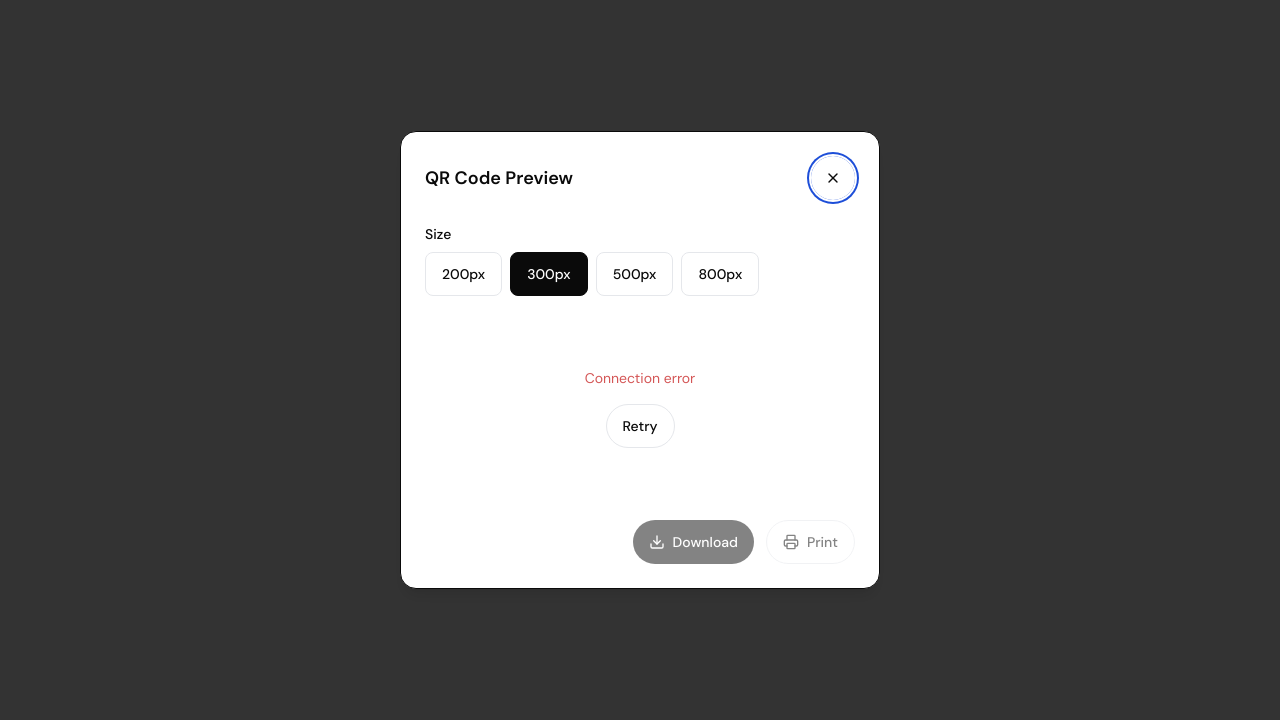
Scenario: Integration: Error recovery › simulate network failure, show error, retry, succeed on second attempt
Expected: the text "Connection error" is shown, [585,368,695,388]
# Click retry
Click the button "Retry".
click(640, 426)  # box [606,404,674,448]
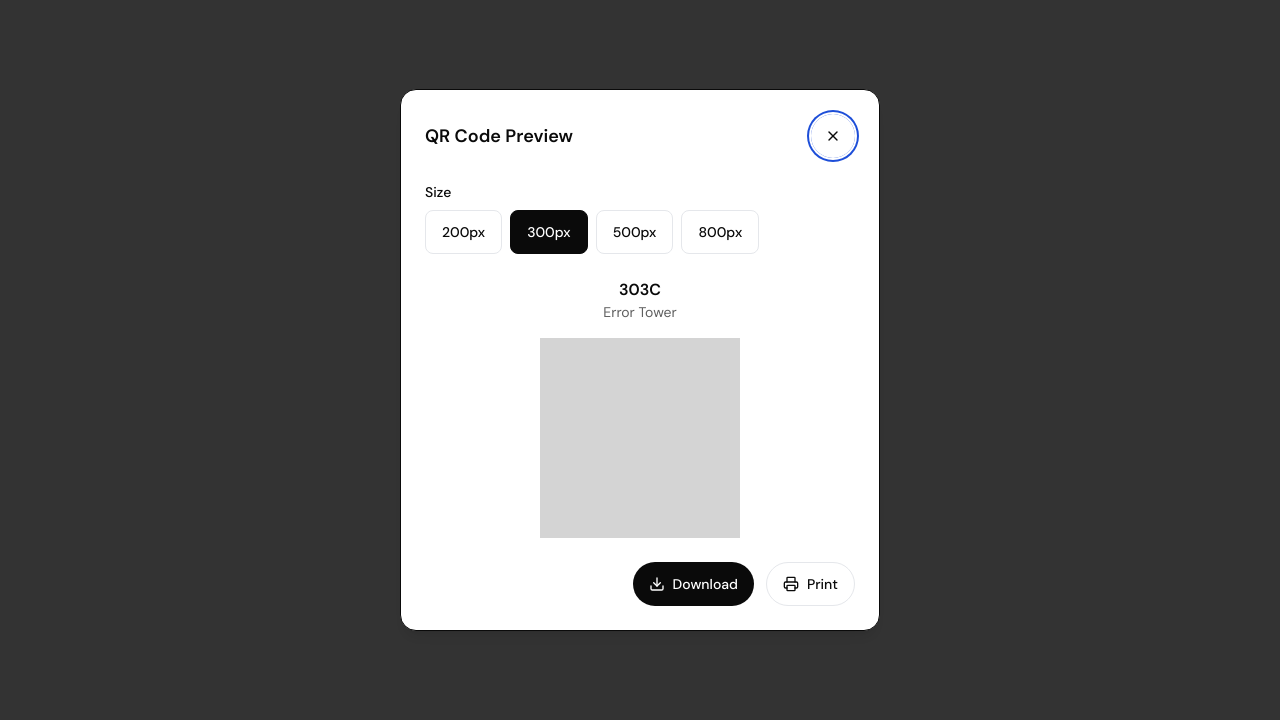
Expected: the text "Connection error" is gone
